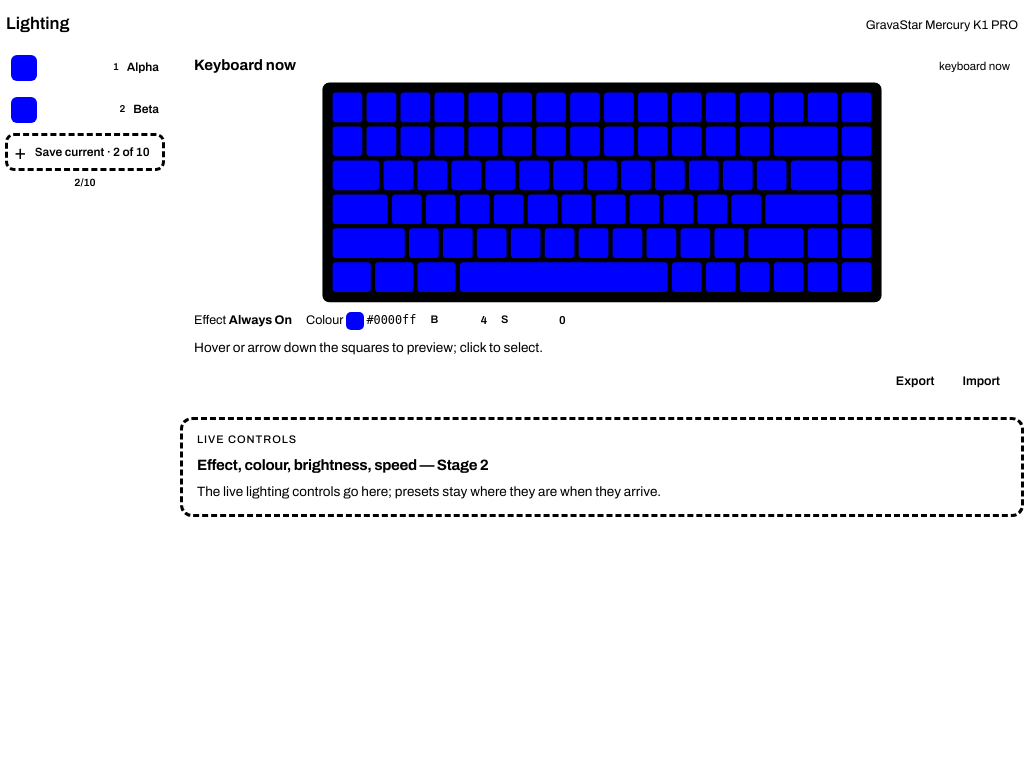
Test case: over 2.4G Apply is disabled with the reason, while Save stays available
Click the button "2 Beta". click: [85, 110]
box: [5,91,165,129]
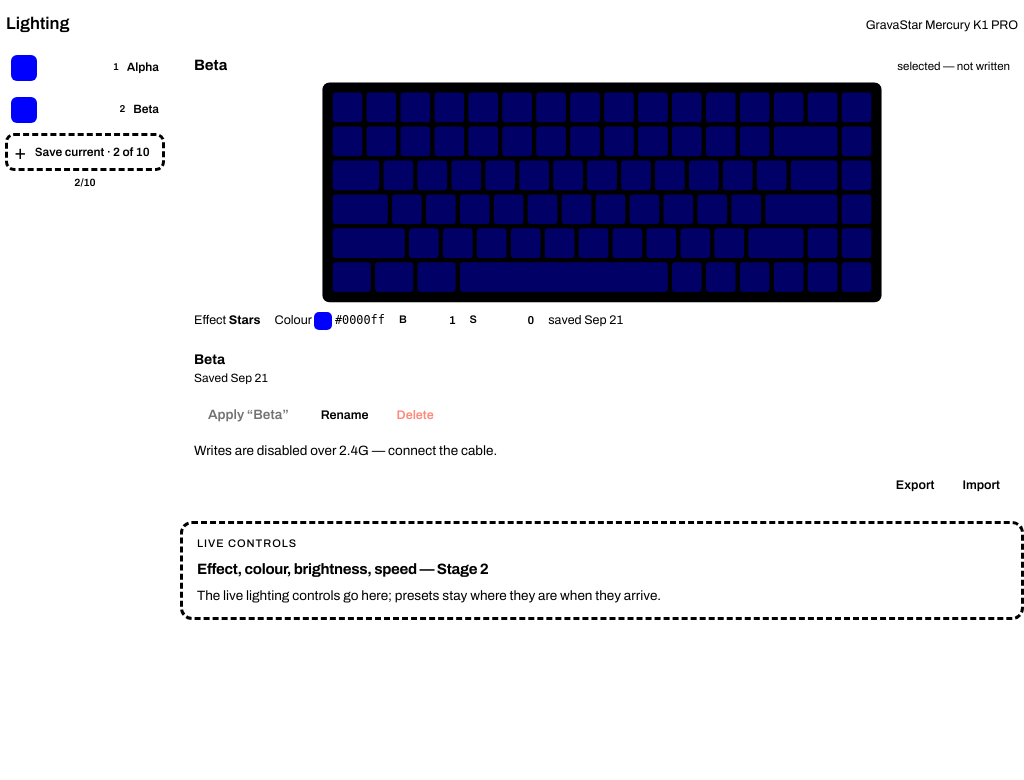
Expected: the button "+ Save current · 2 of 10" is enabled, [5,133,165,171]
Expected: the button "Apply “Beta”" is disabled, [194,397,303,433]
Expected: the text "Writes are disabled over 2.4G — connect the cable." is shown, [194,443,497,458]
